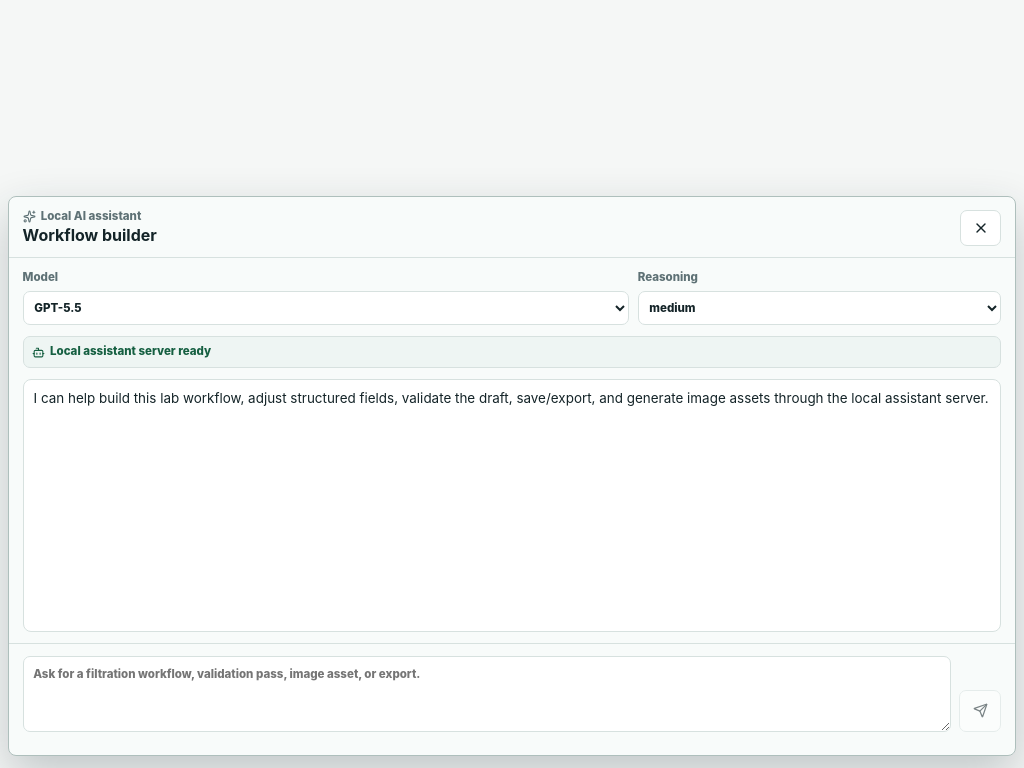
Scenario: StudioAssistant › sends a cancellation tool output when guarded confirmation is cancelled
Expected: the text "Local assistant server ready" is shown, [23,336,1001,368]
Replace the text in the text box with placeholder "Ask for a filtration workflow" with "Export this" at coordinates (487, 694), box [23,656,951,732]
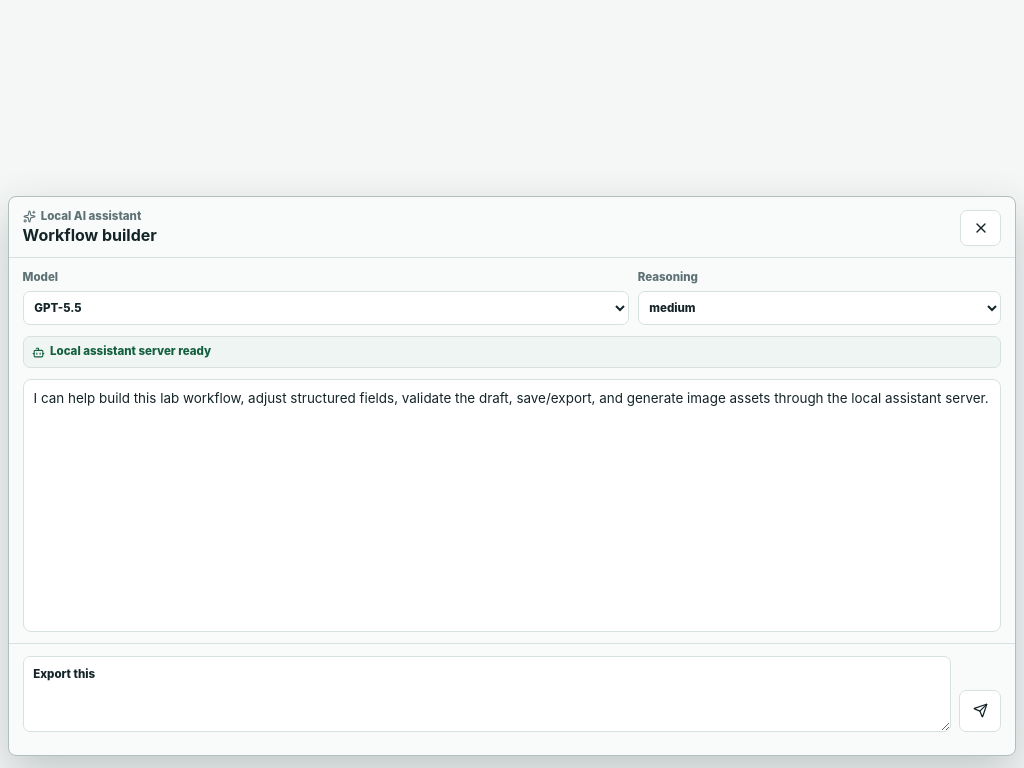
Click the button named "send assistant message" at coordinates (980, 711), box [959,690,1001,732]
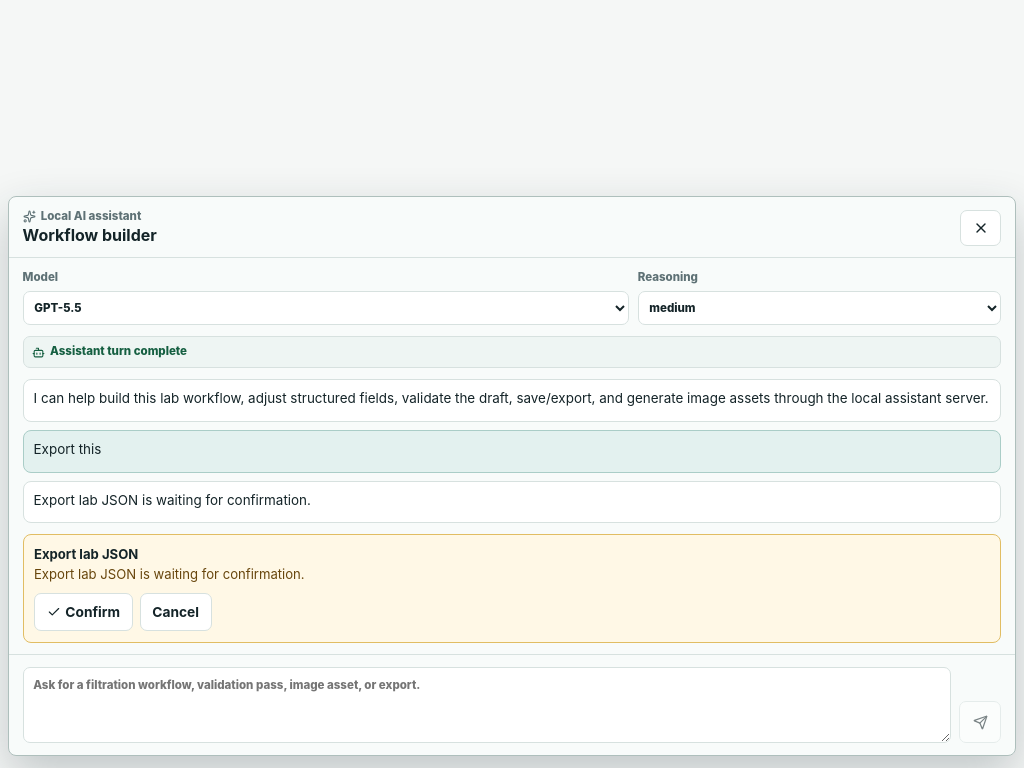
Expected: the element named "assistant confirmation" is shown, [23,534,1001,643]
Click the button "Cancel" at coordinates (176, 612), box [140,593,212,631]
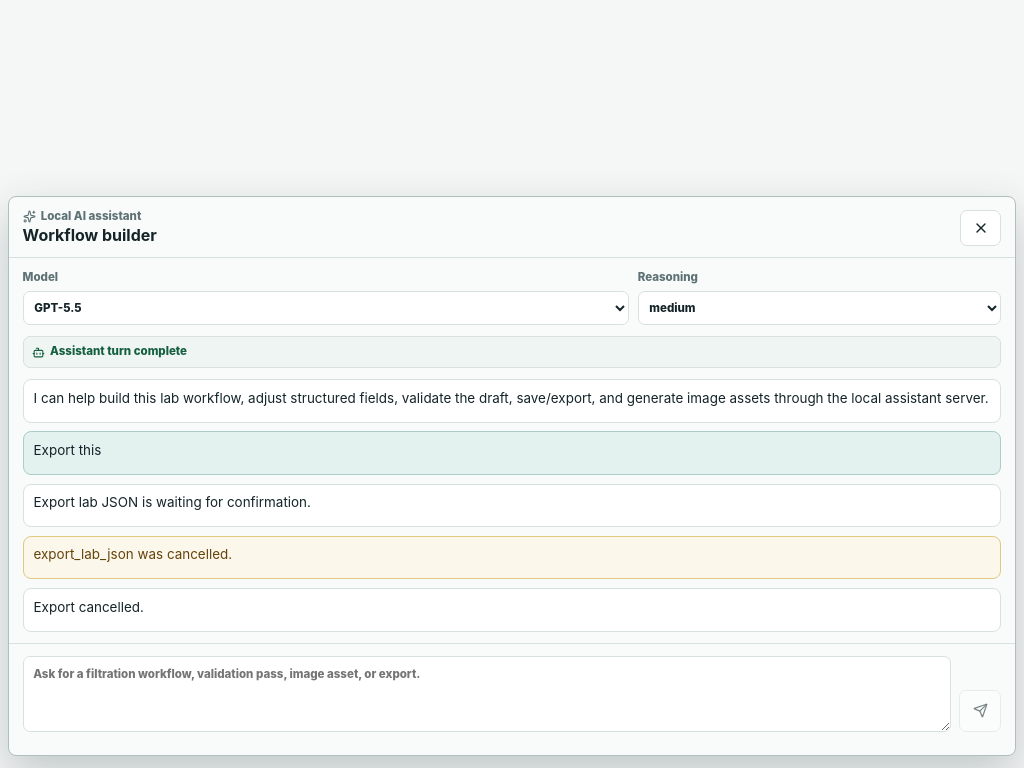
Expected: the text "Export cancelled." is shown, [23,588,1001,632]
